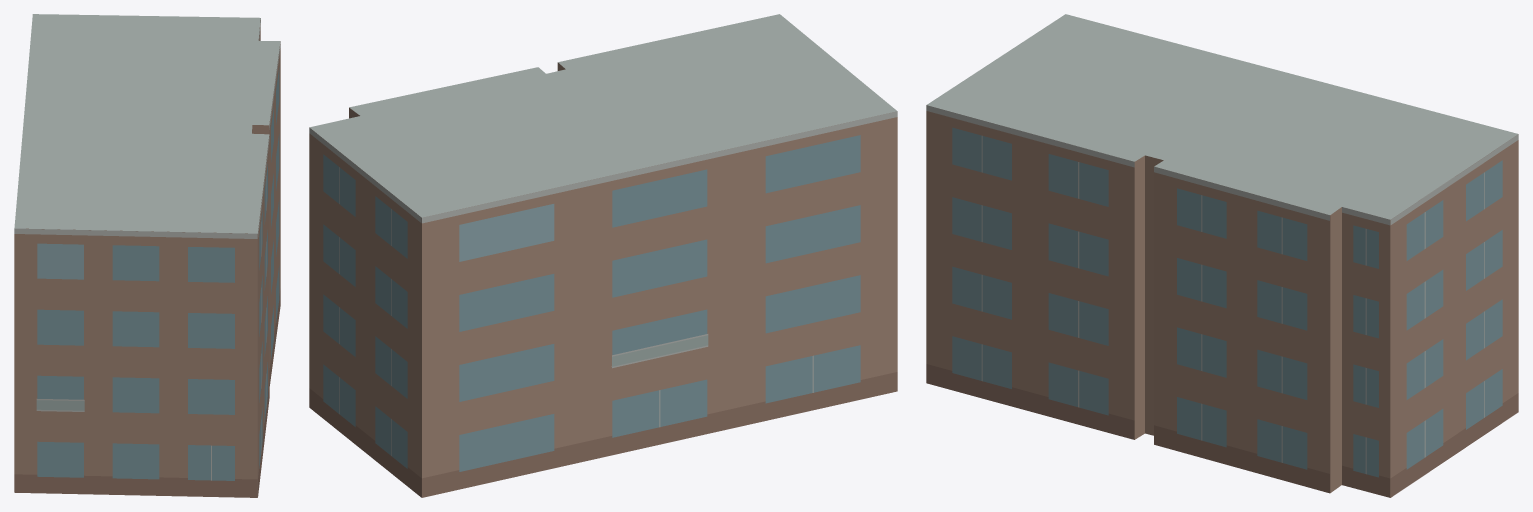
Rendered from survey-upis-32612457.glb.
3 views of the same model, side by side, from view 1: azimuth 30°, elevation 25°; view 2: azimuth 150°, elevation 25°; view 3: azimuth 270°, elevation 25° (orthographic). The views are drawn at different scales.
Visible parts, largest first — view 1: survey-upis-32612457.tmp; view 2: survey-upis-32612457.tmp; view 3: survey-upis-32612457.tmp.
Boxes of the visible parts, box(x1,y1,x2,y2) form: survey-upis-32612457.tmp: box(14, 14, 280, 497); survey-upis-32612457.tmp: box(309, 14, 897, 497); survey-upis-32612457.tmp: box(926, 14, 1518, 497).
Size of the model in its own units: 18.81 by 11.85 by 22.88.
